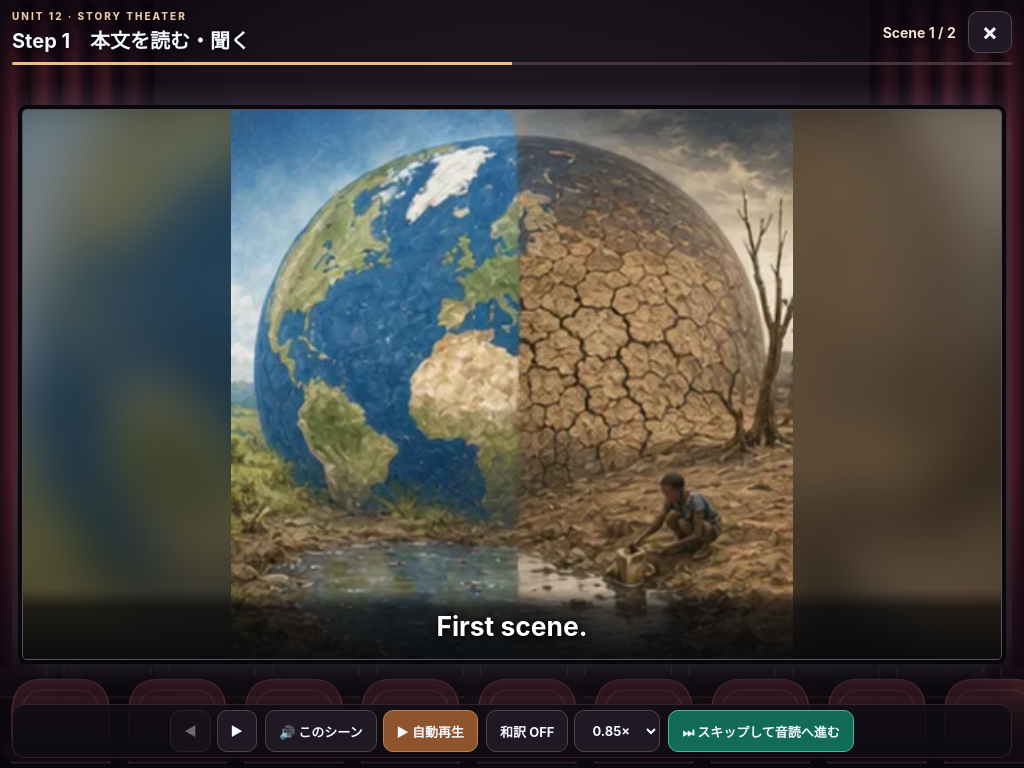
Scenario: manual navigation cancels stale narration and translation remains optional
Click the button "🔊 このシーン": [321, 731] box [265,710,377,752]
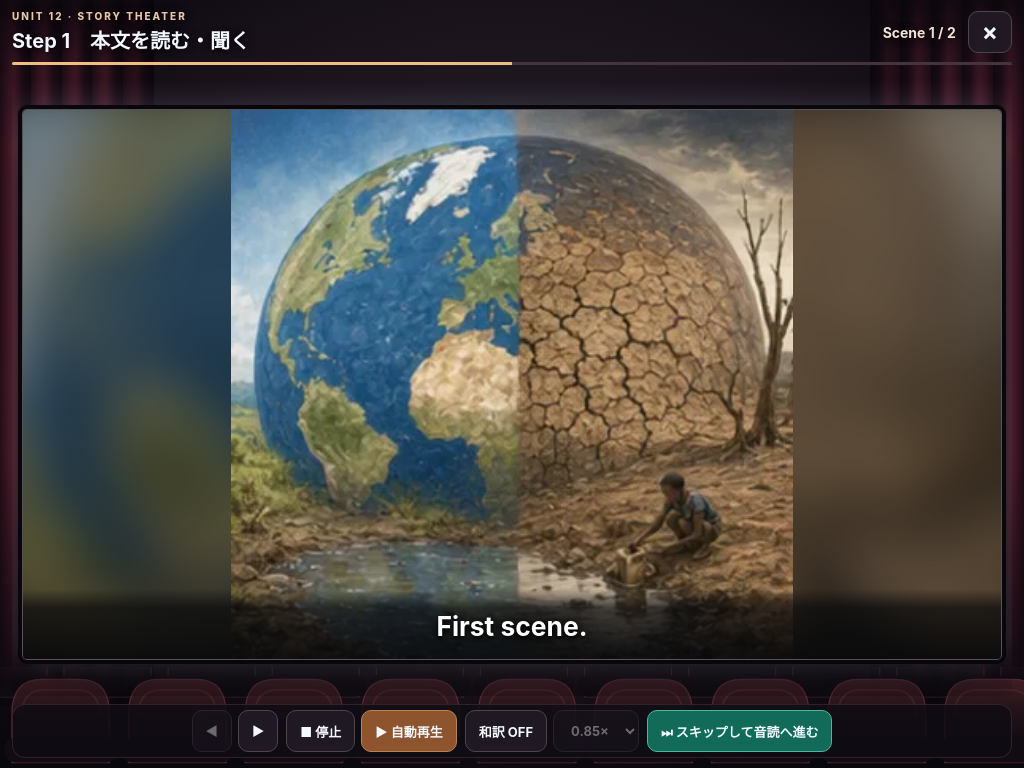
Click the button named "次のシーン": [258, 731] box [238,710,278,752]
Wait 1000 ms
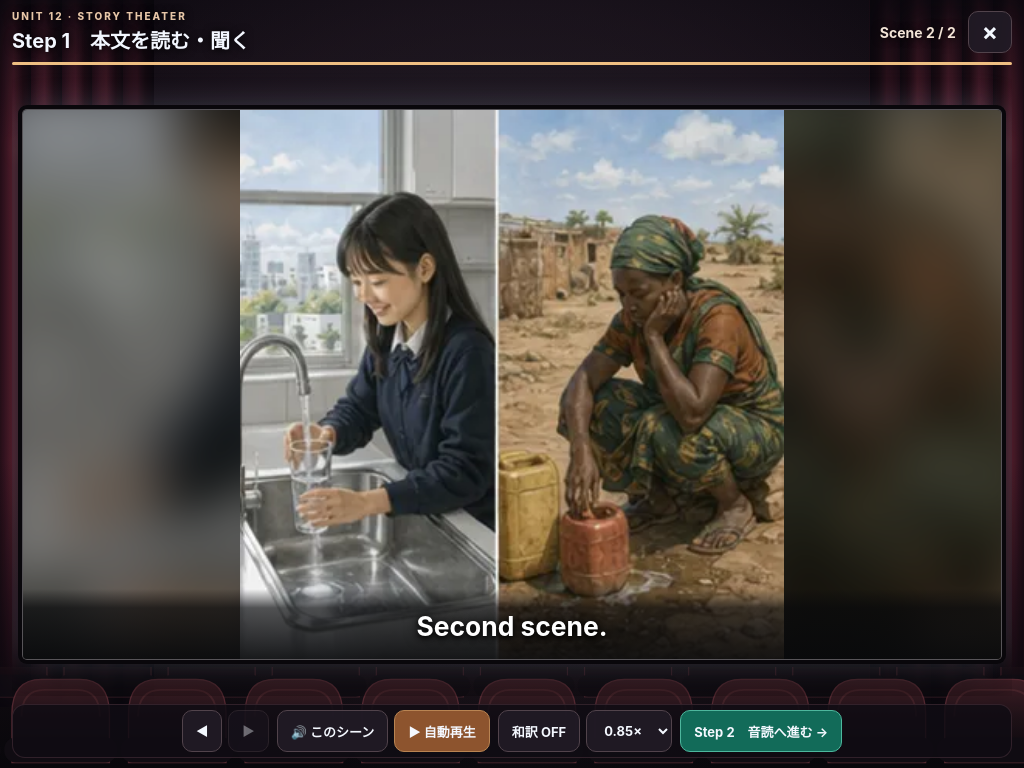
Now the text "Second scene." is shown, box [416,610,608,642]
Click the button "和訳 OFF": [539, 731] box [498,710,580,752]
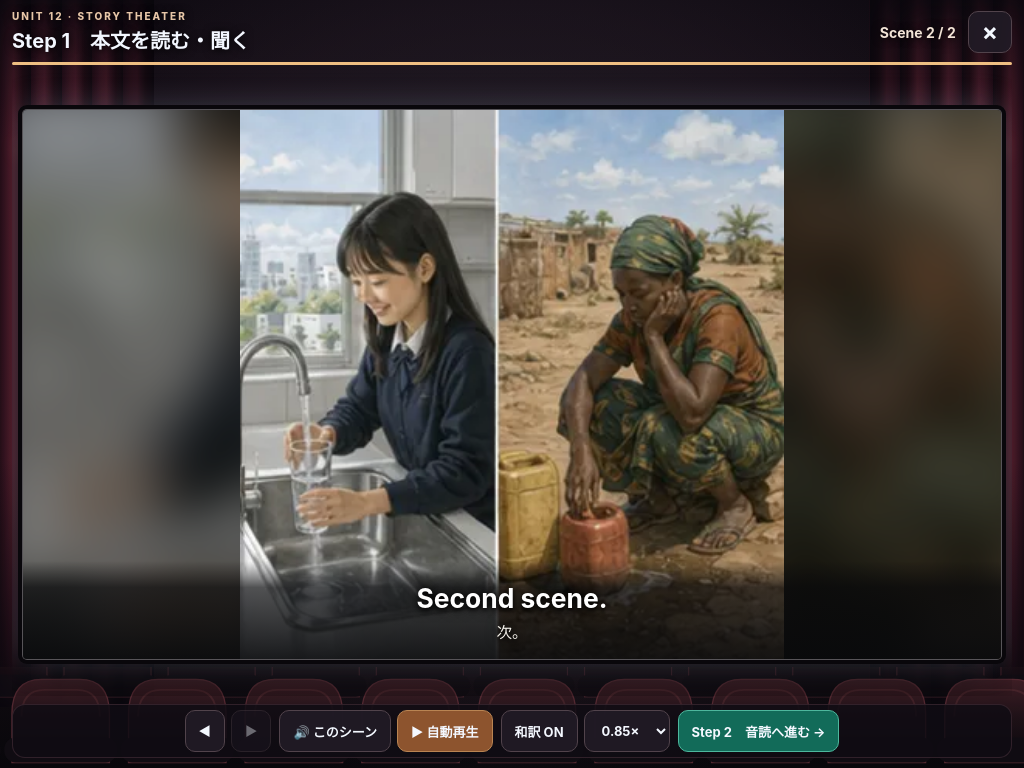
Now the text "次。" is shown, box [496,623,528,642]
Click the button named "前のシーン": [205, 731] box [185,710,225,752]
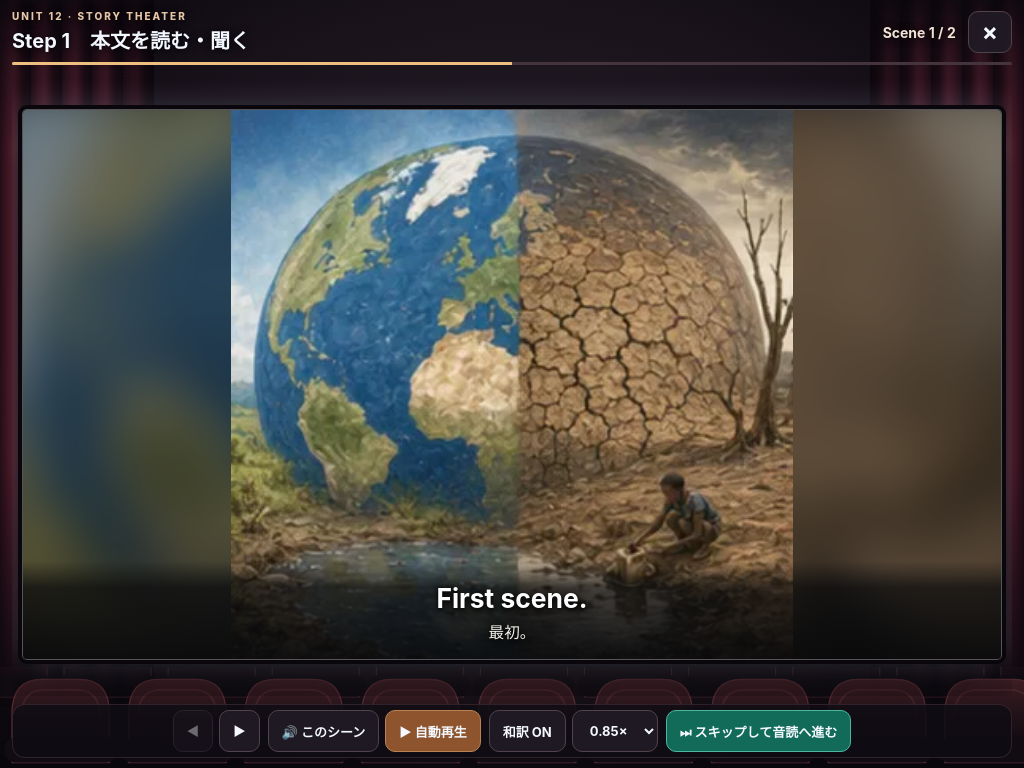
Now the text "最初。" is shown, box [489,623,536,642]
